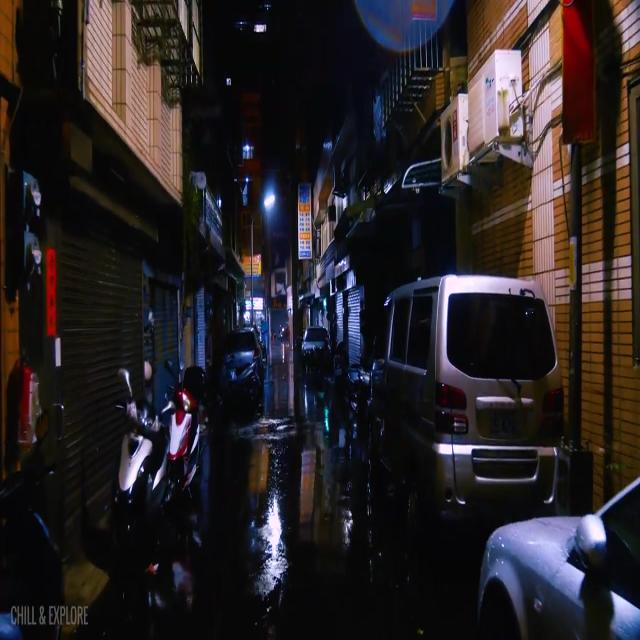Car: (370, 269, 557, 530)
